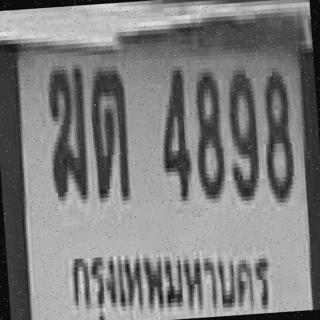A06: (43, 60, 89, 197)
A21: (86, 61, 130, 198)
N04: (155, 61, 190, 198)
N08: (258, 67, 294, 199), (190, 68, 224, 196)
N09: (224, 65, 259, 197)
P04: (68, 227, 278, 320)
